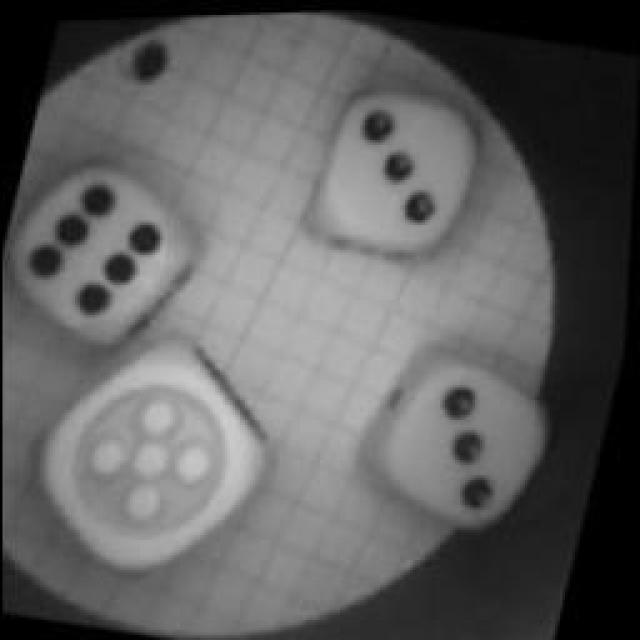dice_3: (343, 330, 575, 558), (298, 71, 492, 276)
dice_5: (2, 318, 298, 604)
dice_6: (0, 131, 225, 359)
